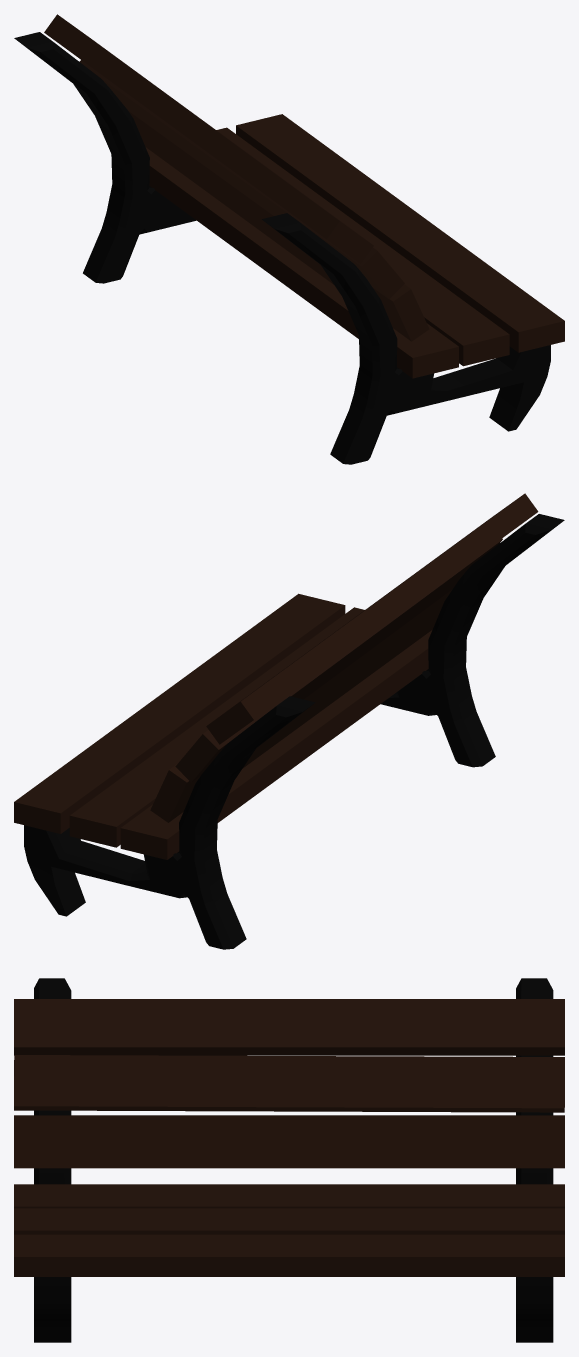
Rendered from SM_Bench.fbx.
3 views of the same model, one above another, from view 1: azimuth 30°, elevation 25°; view 2: azimuth 150°, elevation 25°; view 3: azimuth 270°, elevation 25° (orthographic). The views are drawn at different scales.
Visible parts, largest first — view 1: SM_Bench; view 2: SM_Bench; view 3: SM_Bench.
Boxes of the visible parts, box(x1,y1,x2,y2) form: SM_Bench: box(14, 14, 564, 464); SM_Bench: box(14, 493, 564, 949); SM_Bench: box(14, 978, 564, 1342).
Size of what is drawn, in the model's own units: 214 by 192 by 377.
